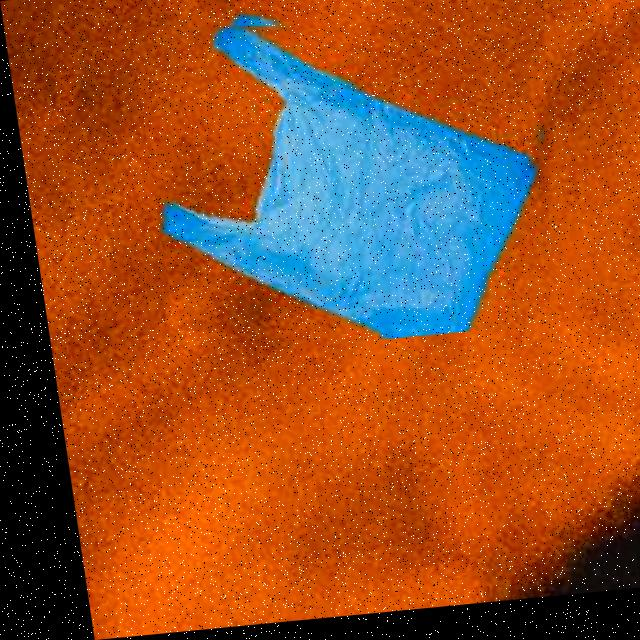plasticcover: (128, 0, 568, 361)
